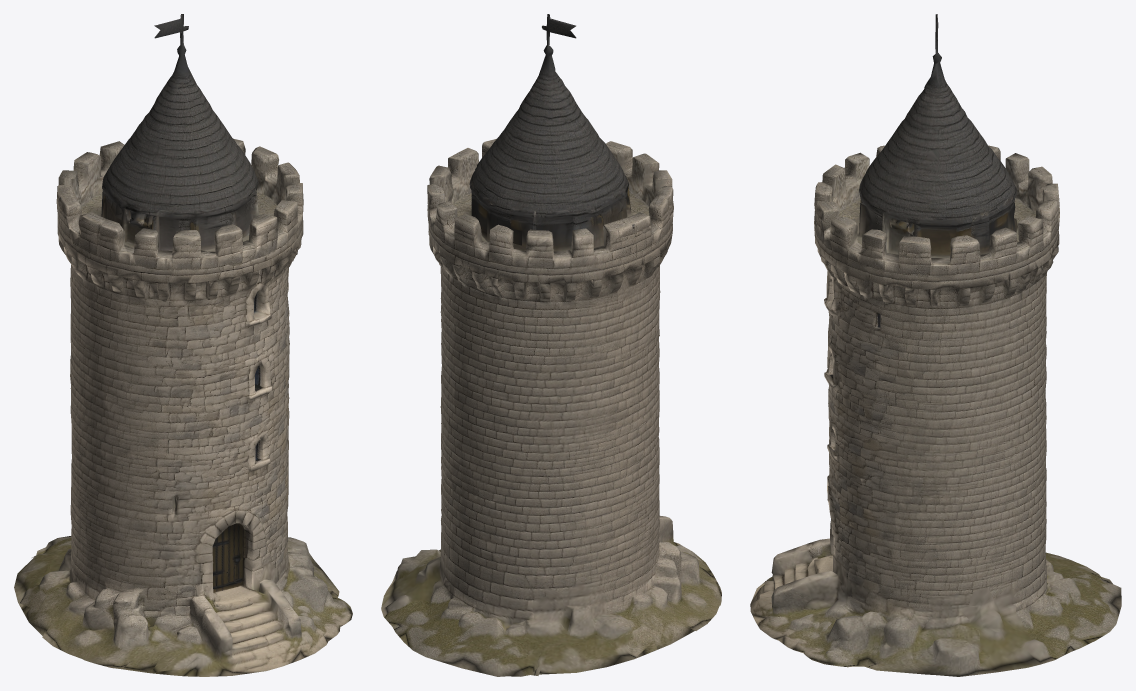
Rendered from poi_tower.glb.
3 views of the same model, side by side, from view 1: azimuth 30°, elevation 25°; view 2: azimuth 150°, elevation 25°; view 3: azimuth 270°, elevation 25° (orthographic).
Parts seen in each view (by area): view 1: Mesh_0; view 2: Mesh_0; view 3: Mesh_0.
Part boxes in pixels (left/top/right/bottom): Mesh_0: left=14, top=14, right=352, bottom=676; Mesh_0: left=381, top=14, right=721, bottom=676; Mesh_0: left=750, top=14, right=1121, bottom=676.
Bounding box in the file's own units: 0.9659 × 1.9 × 1.09.
1 material, 1 textured.
